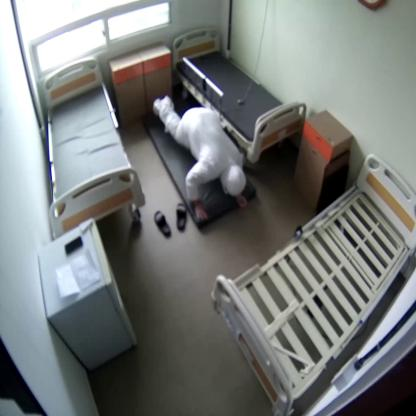Bed: (171, 28, 306, 156)
Person: (153, 96, 248, 221)
